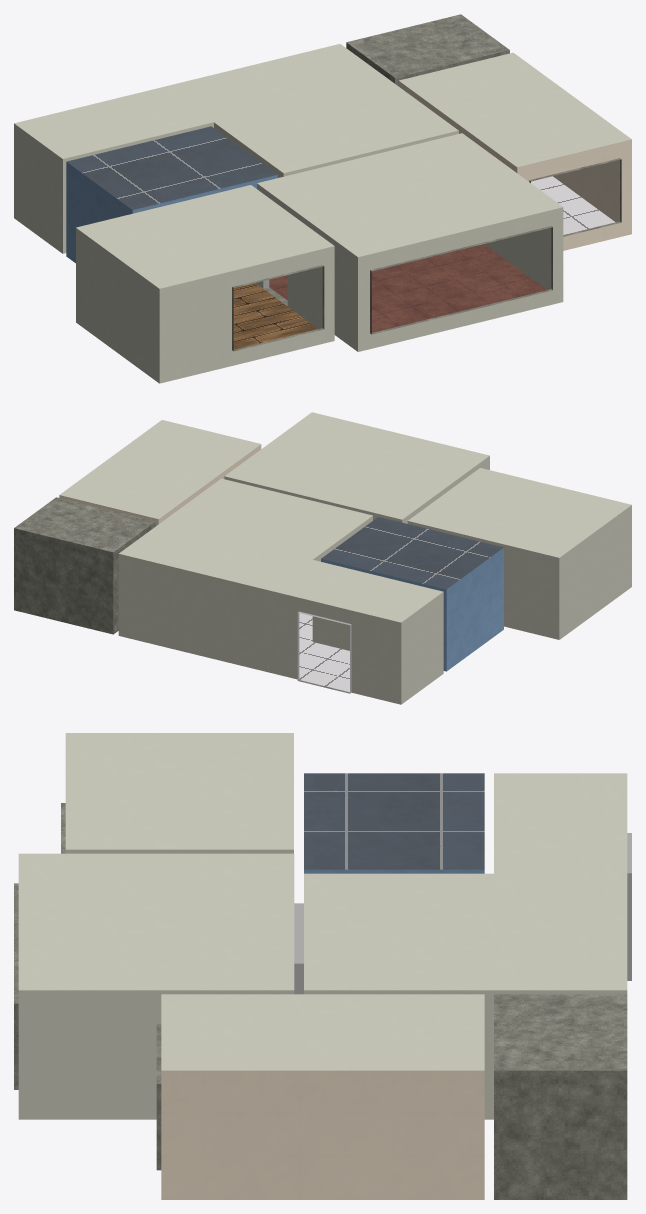
File: SourceModel.glb
3 renders of one model, top to bottom at view 1: azimuth 30°, elevation 25°; view 2: azimuth 150°, elevation 25°; view 3: azimuth 270°, elevation 25°, orthographic. The views are drawn at different scales.
Parts seen in each view (by area): view 1: Hall2; view 2: Hall2; view 3: Hall2.
Boxes of the visible parts, x1,y1,x2,y2 form: Hall2: [14, 14, 631, 383]; Hall2: [14, 412, 631, 704]; Hall2: [14, 733, 631, 1199].
Size of the model in its own units: 16.8 by 3 by 13.
Materials: 9 (8 with a texture image).
